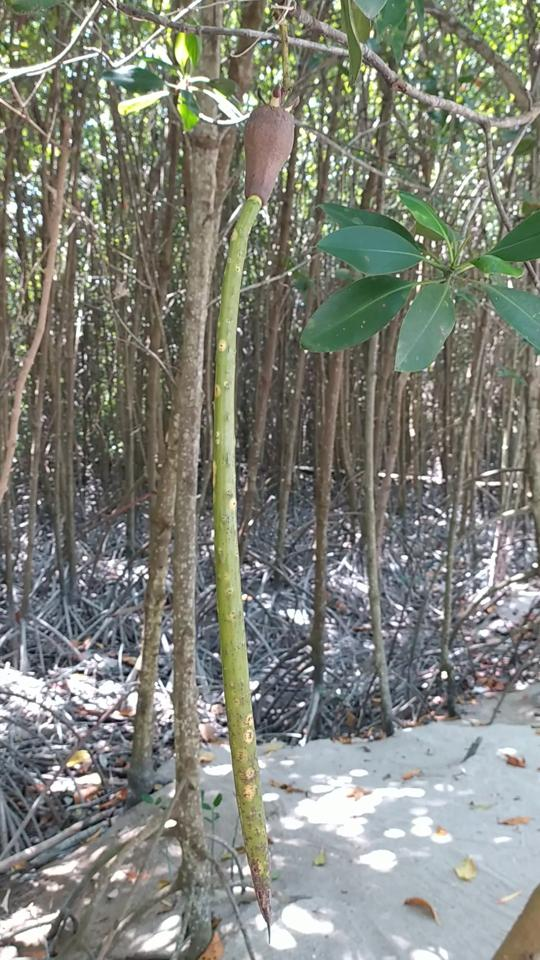setengah matang: (204, 84, 314, 945)
